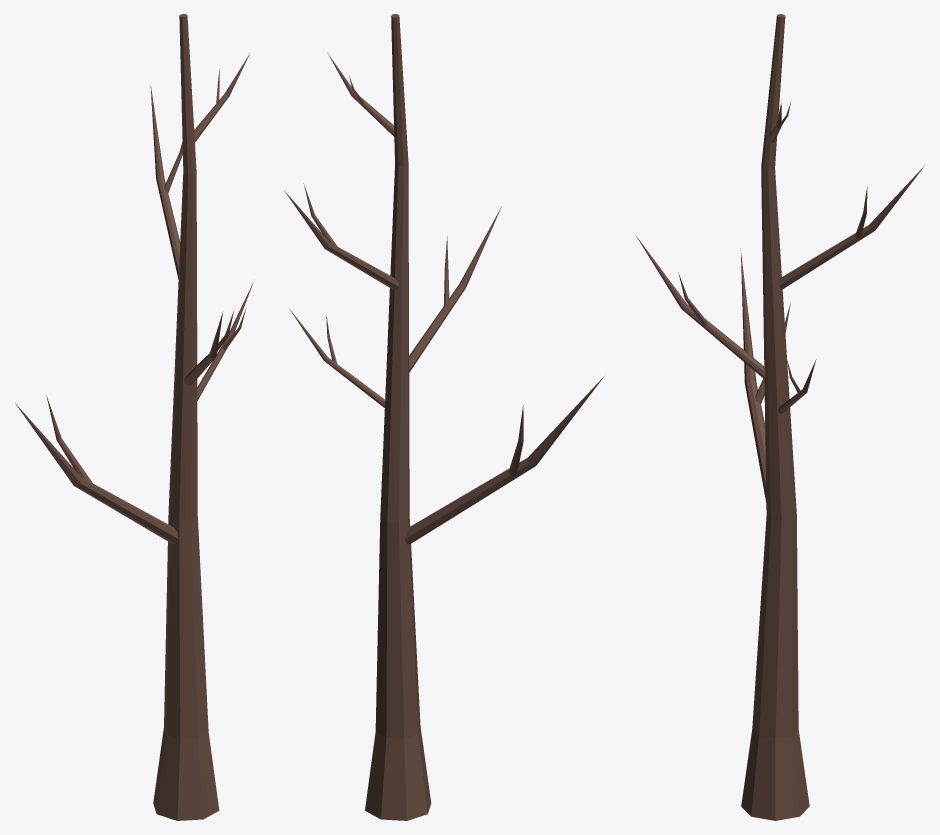
The model's file is SpringTree_07.fbx.
The picture shows the model from 3 angles, left to right: view 1: azimuth 30°, elevation 25°; view 2: azimuth 150°, elevation 25°; view 3: azimuth 270°, elevation 25°; orthographic projection.
Parts seen in each view (by area): view 1: SpringTree_07; view 2: SpringTree_07; view 3: SpringTree_07.
Boxes of the visible parts, x1,y1,x2,y2 form: SpringTree_07: (15, 14, 253, 820); SpringTree_07: (284, 14, 604, 820); SpringTree_07: (635, 14, 924, 820).
Bounding box in the file's own units: 361 × 978 × 327.
